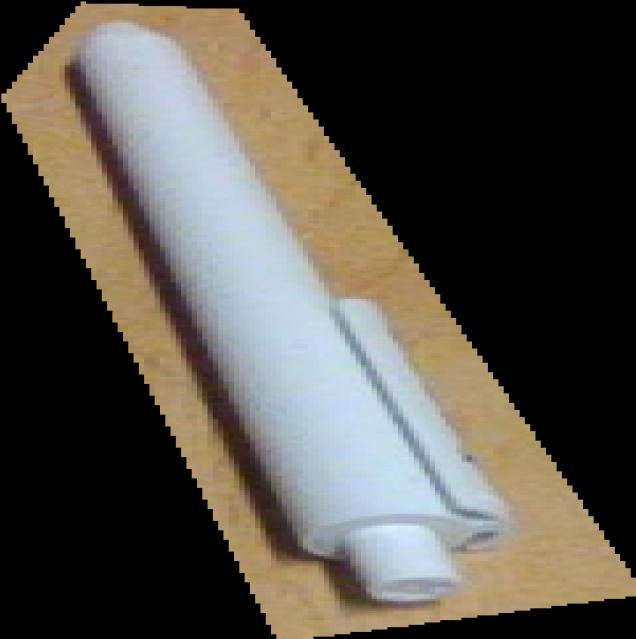white: (1, 1, 636, 639)
